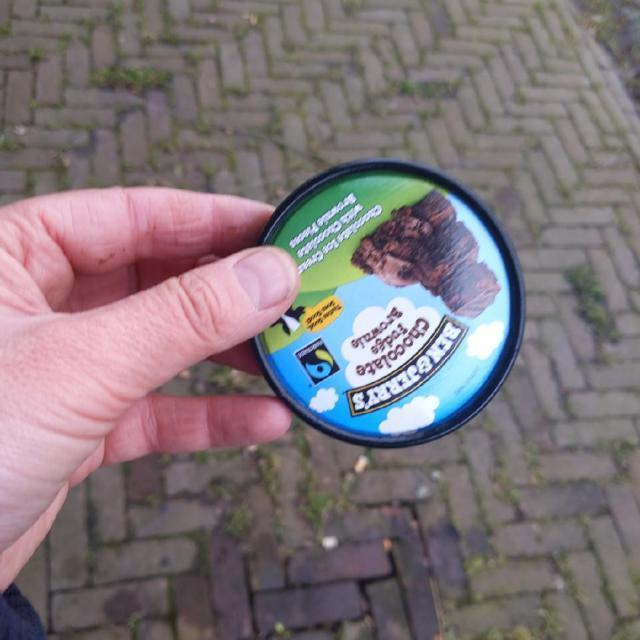Paper: (244, 151, 529, 452)
